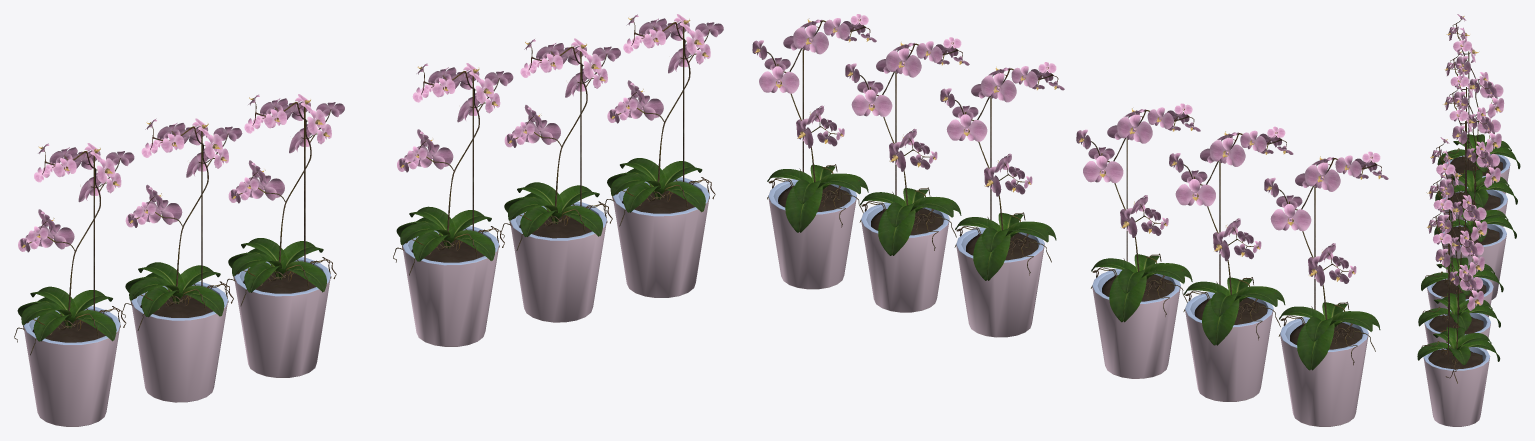
The model's file is flowerpot-DVWPtZwv.glb.
The picture shows the model from 3 angles, left to right: view 1: azimuth 30°, elevation 25°; view 2: azimuth 150°, elevation 25°; view 3: azimuth 270°, elevation 25°; orthographic projection. The views are drawn at different scales.
Visible parts, largest first — view 1: StudyShelf_2392; view 2: StudyShelf_2392; view 3: StudyShelf_2392.
Boxes of the visible parts, left/top/right/bottom form: StudyShelf_2392: left=14, top=14, right=723, bottom=426; StudyShelf_2392: left=752, top=14, right=1388, bottom=426; StudyShelf_2392: left=1417, top=14, right=1520, bottom=426.
Size of the model in its own units: 262 by 104 by 49.11.
2 materials, 2 textured.
